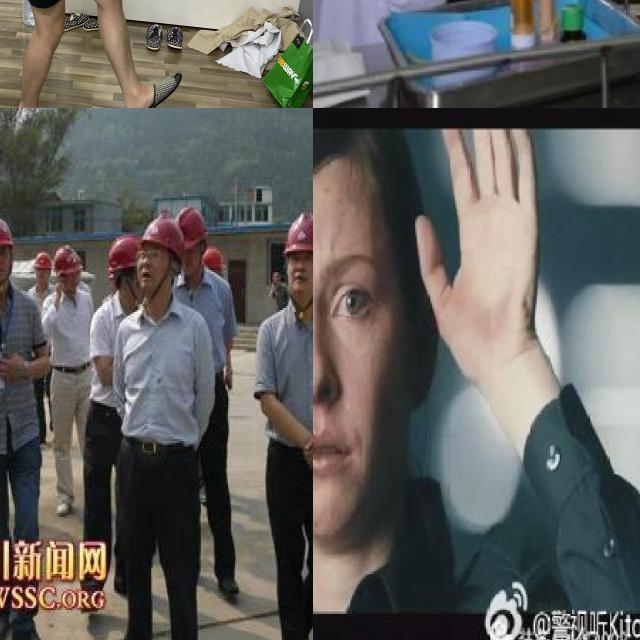No_Glasses: (313, 255, 383, 339)
Sandals: (120, 71, 182, 108), (14, 83, 64, 108)
face_nomask: (313, 204, 398, 524), (133, 247, 167, 288), (286, 249, 313, 289), (0, 243, 15, 283)
glasses: (131, 245, 165, 263)
hand_noglove: (412, 127, 546, 404), (0, 350, 30, 382), (303, 425, 313, 467)
head_helmet: (138, 207, 189, 256), (281, 209, 313, 258), (105, 233, 144, 271), (51, 243, 89, 276), (0, 210, 17, 251)
head_nohelmet: (313, 125, 404, 196)
person: (313, 108, 638, 629), (111, 204, 214, 640), (0, 204, 58, 640), (257, 212, 313, 640), (352, 0, 593, 33)
